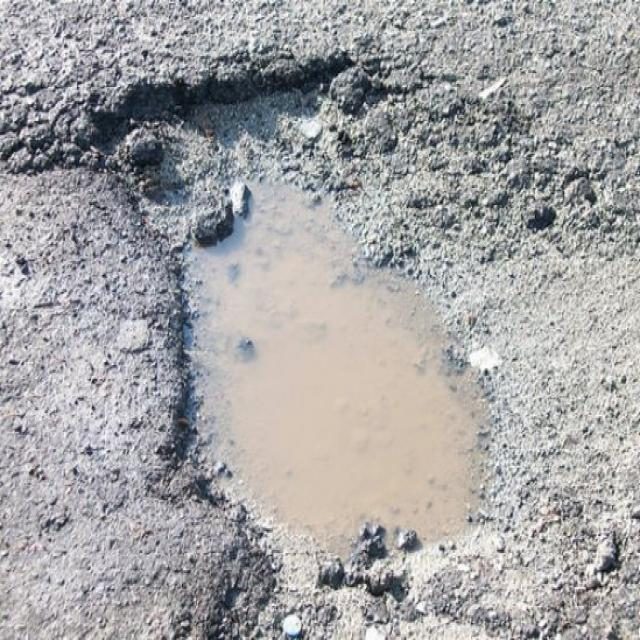Pothole: (91, 43, 521, 564)
